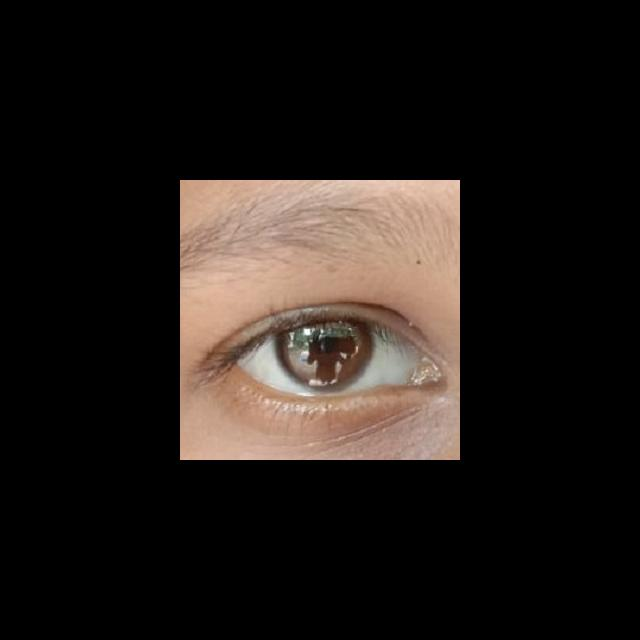eye: (235, 318, 421, 398)
iris: (275, 322, 374, 390)
